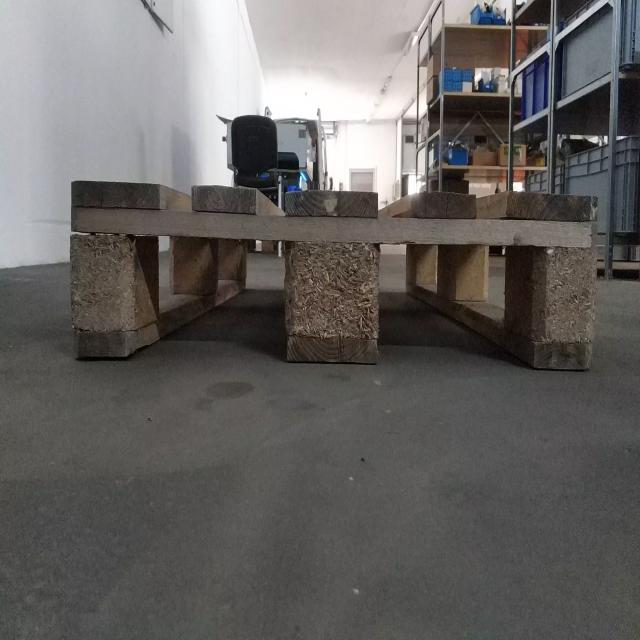block: (283, 188, 382, 368), (68, 173, 144, 362), (529, 196, 608, 374), (170, 230, 216, 302), (447, 233, 490, 302), (403, 238, 439, 290)
front: (63, 174, 598, 376)
